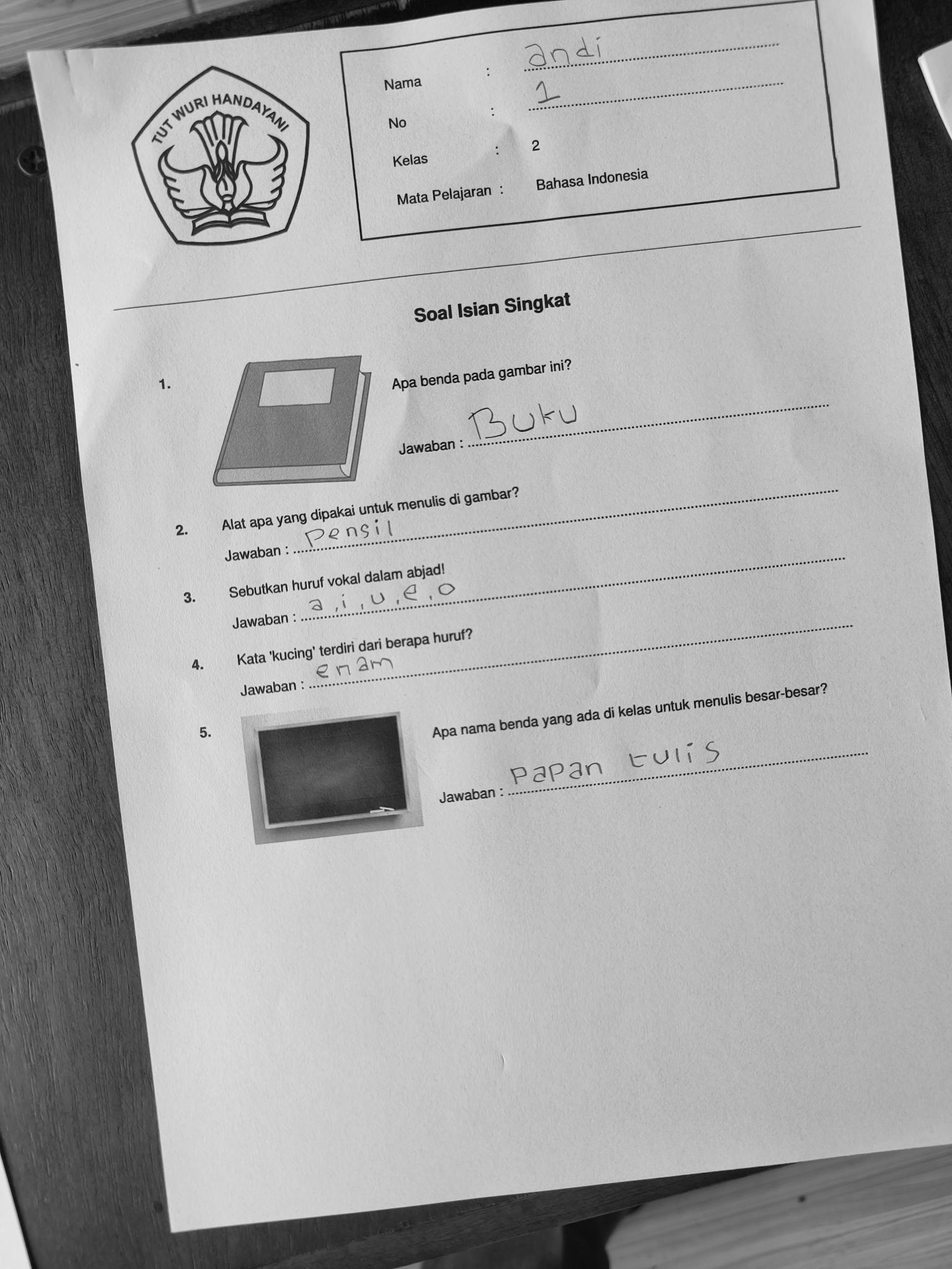soal-1: (147, 285, 849, 505)
soal-2: (164, 419, 864, 579)
soal-3: (170, 494, 884, 649)
soal-4: (179, 563, 898, 717)
soal-5: (191, 638, 910, 859)
